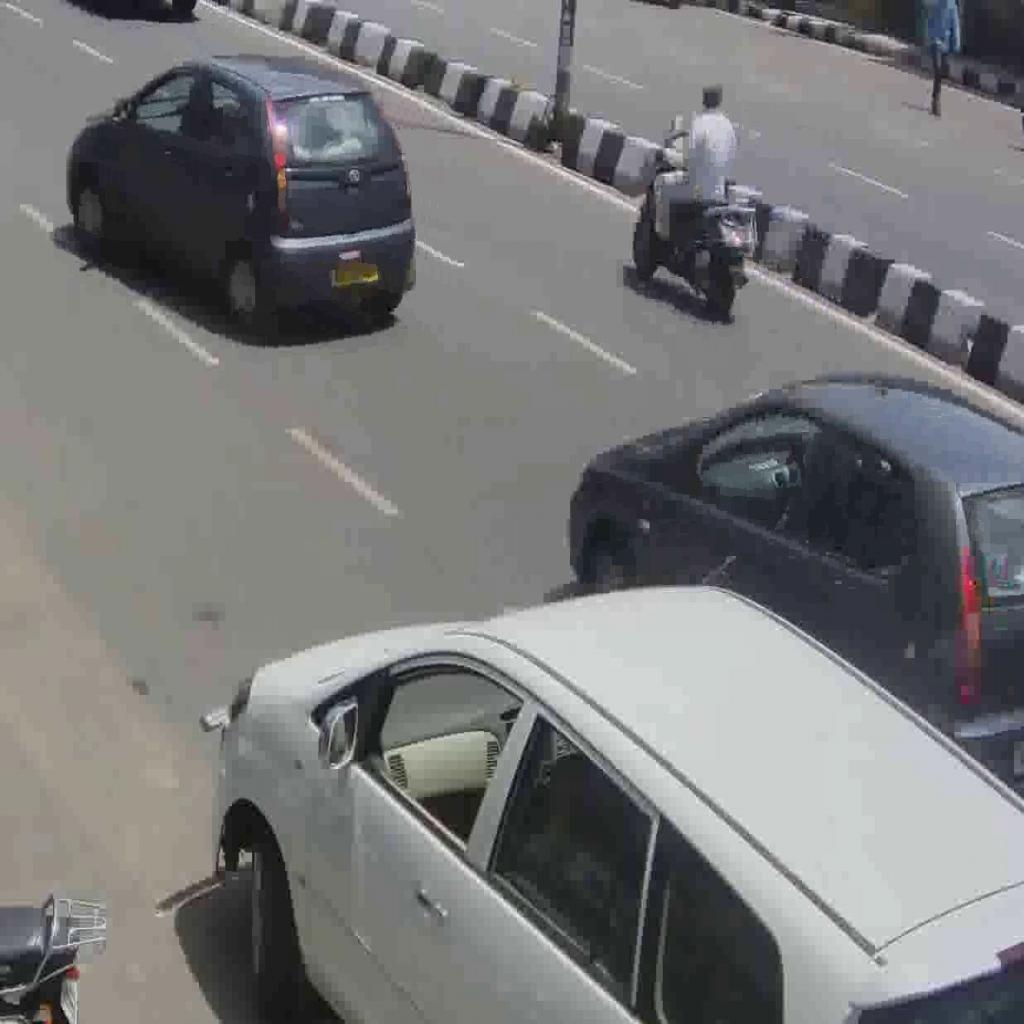bike: (632, 123, 758, 315)
rider: (649, 77, 737, 253)
